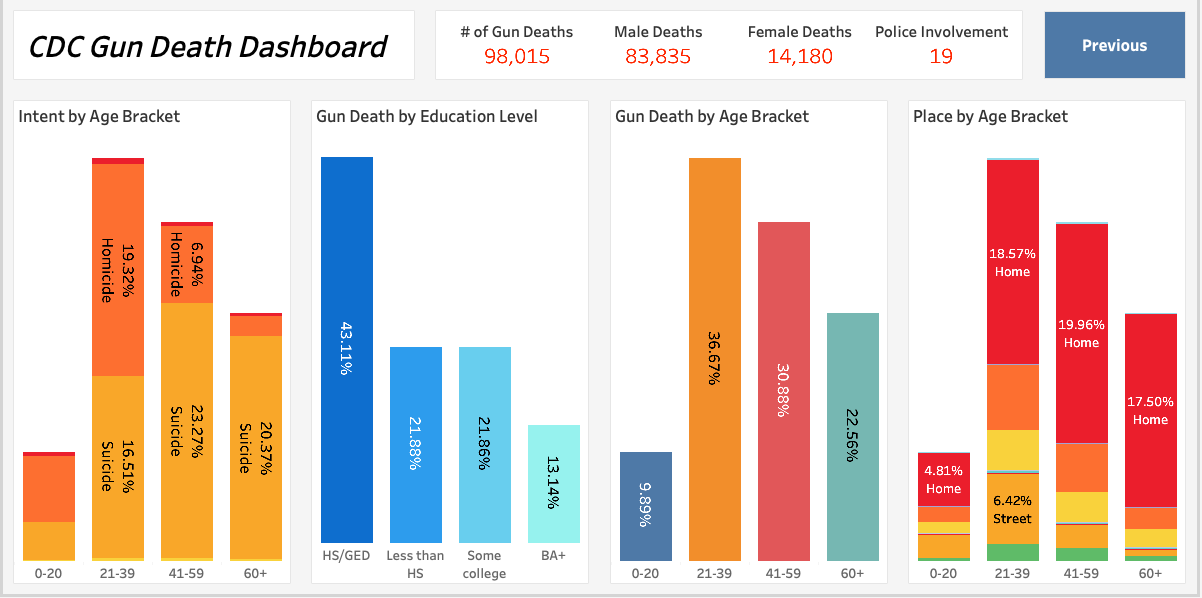

The page's visual inventory and layout, read from the dashboard file:
{"tool":"tableau","page":{"name":"Dashboard 2","canvas":[1200,600],"ordinal":1},"visuals":[{"type":"text","box":[3,3,422,90]},{"type":"worksheet","title":"KPIs","mark":"Text","box":[425,3,608,90]},{"type":"dashboard-object","box":[1033,3,164,90]},{"type":"worksheet","title":"Intent by Age Bracket","mark":"Automatic","rows":["intent"],"cols":["ageBracket"],"box":[3,93,298.5,504]},{"type":"worksheet","title":"Gun Death by Education","mark":"Automatic","rows":["education"],"cols":["education"],"box":[301.5,93,298.5,504]},{"type":"worksheet","title":"Gun Death by Age Bracket","mark":"Automatic","rows":["ageBracket"],"cols":["ageBracket"],"box":[599.9,93,298.5,504]},{"type":"worksheet","title":"Place by Age Bracket","mark":"Automatic","rows":["place"],"cols":["ageBracket"],"box":[898.4,93,298.5,504]}]}

Visuals, with their boxes in screenshot pixels (x1, y1, x2, y2), scaled from the page's 1200x600 canvas onto the 1202x598 screenshot:
text: Rect(3, 3, 426, 93)
"KPIs" worksheet (Text marks): Rect(426, 3, 1035, 93)
dashboard-object: Rect(1035, 3, 1199, 93)
"Intent by Age Bracket" worksheet: Rect(3, 93, 302, 595)
"Gun Death by Education" worksheet: Rect(302, 93, 601, 595)
"Gun Death by Age Bracket" worksheet: Rect(601, 93, 900, 595)
"Place by Age Bracket" worksheet: Rect(900, 93, 1199, 595)
